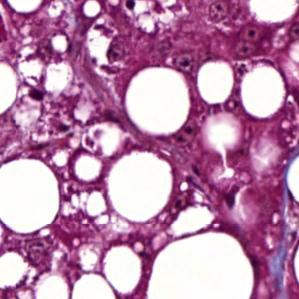steatosis: (106, 153, 174, 222), (128, 67, 190, 136), (241, 64, 285, 119), (196, 59, 234, 105)
